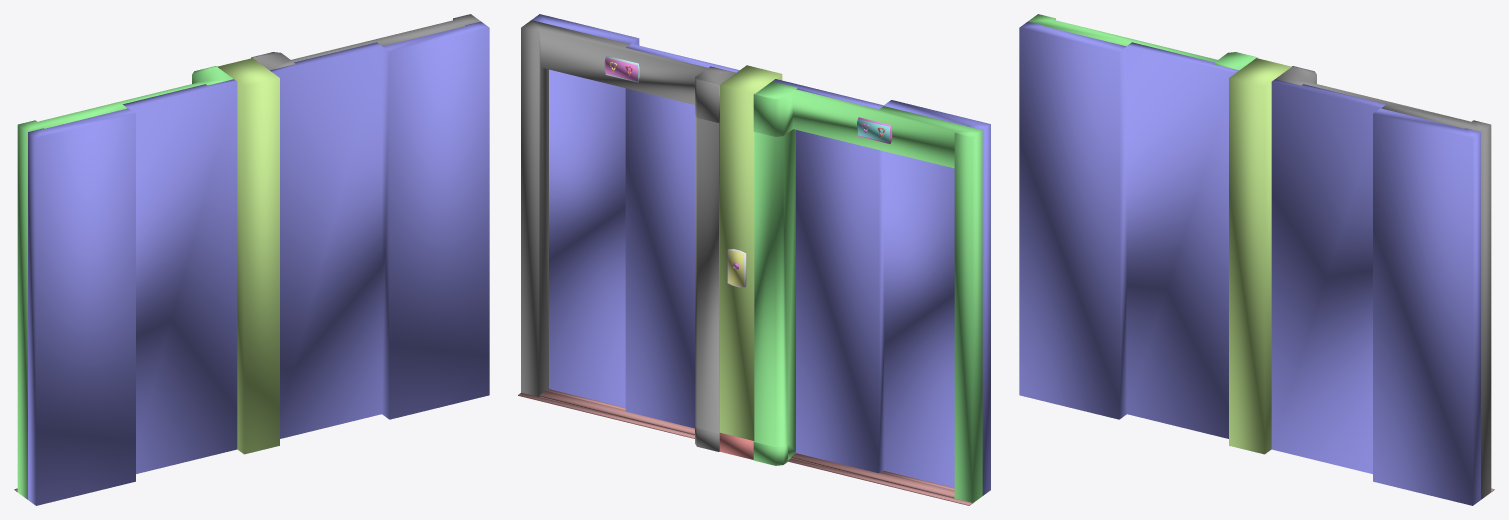
The model's file is elevatorDoors.gltf.
3 renders of one model, left to right at view 1: azimuth 30°, elevation 25°; view 2: azimuth 150°, elevation 25°; view 3: azimuth 330°, elevation 25°, orthographic.
Parts seen in each view (by area): view 1: elevatorDoors; view 2: elevatorDoors; view 3: elevatorDoors.
Boxes of the visible parts, left/top/right/bottom form: elevatorDoors: left=14, top=14, right=489, bottom=505; elevatorDoors: left=518, top=14, right=990, bottom=505; elevatorDoors: left=1019, top=14, right=1494, bottom=505.
Bounding box in the file's own units: 3.81 × 2.96 × 0.43.
